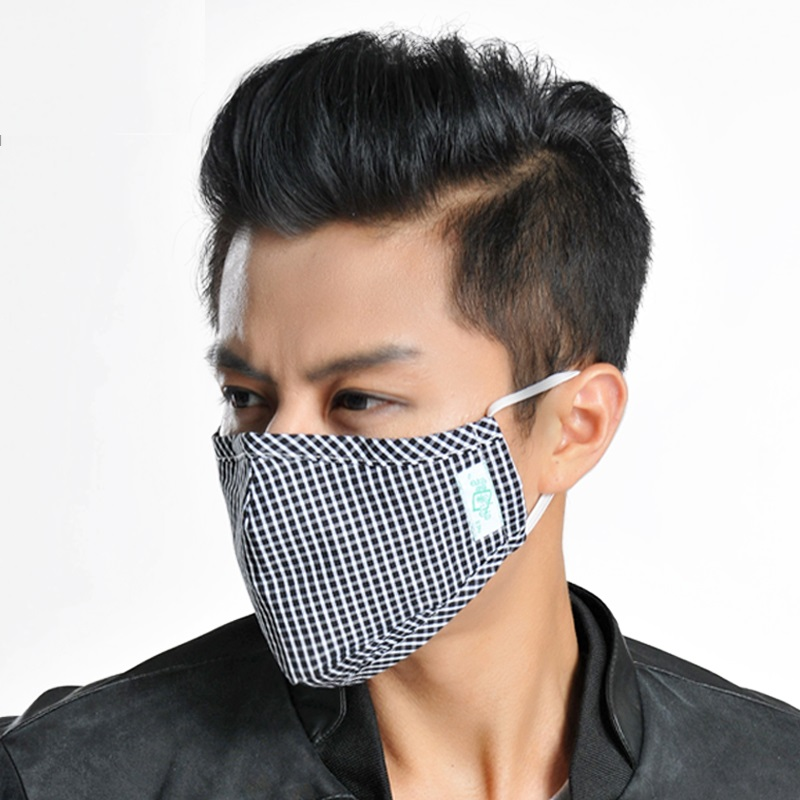face_mask: (212, 249, 526, 691)
